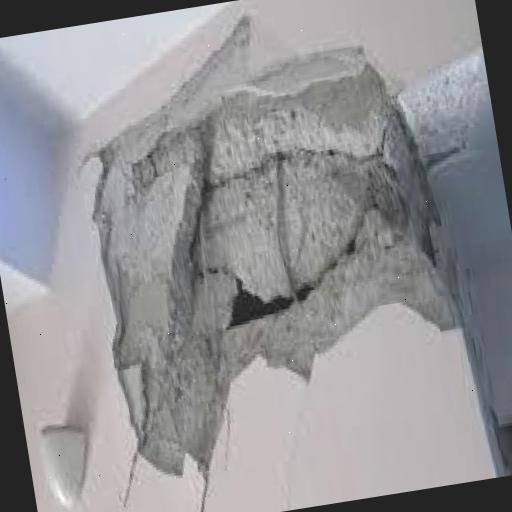spalling: (94, 67, 463, 473)
